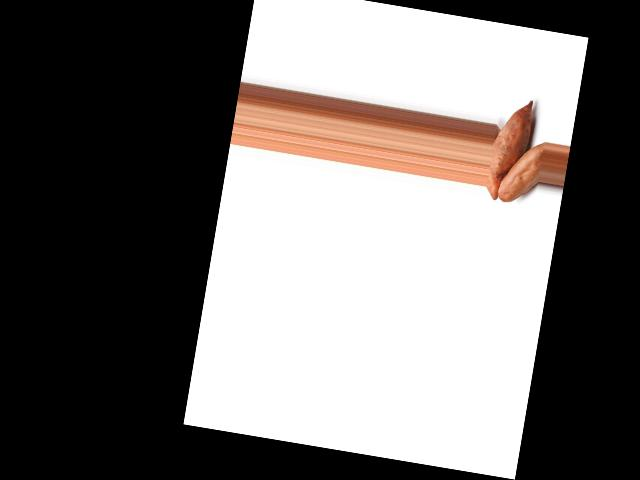sweet_potato: (497, 132, 546, 207)
